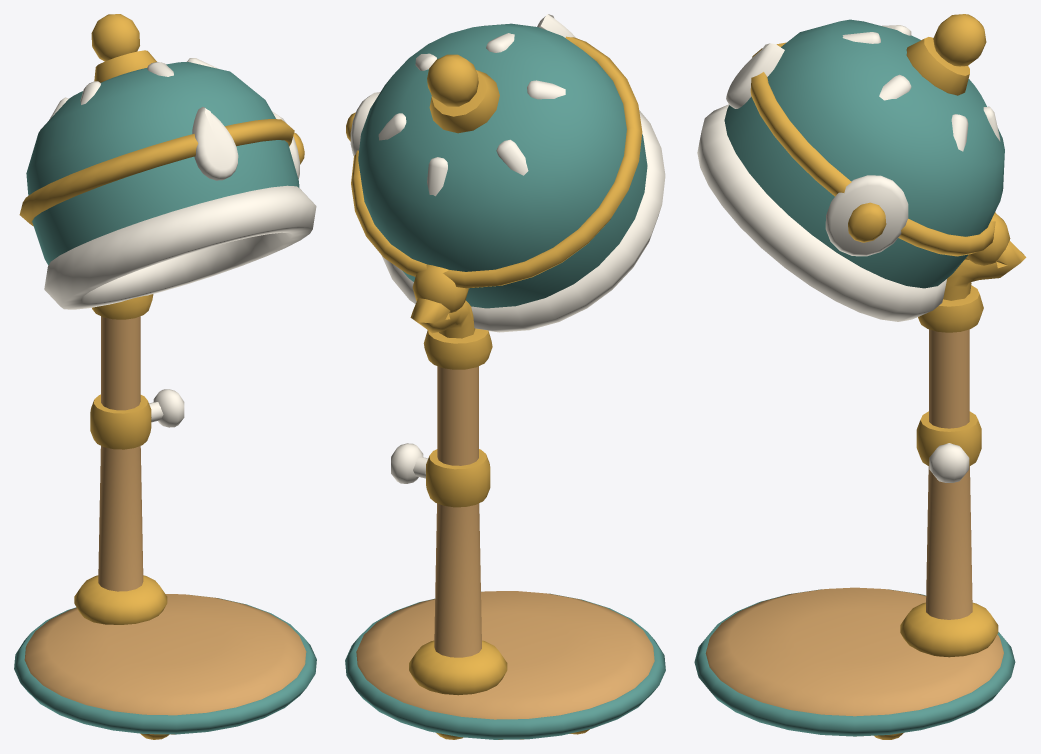
Rendered from ShopDryer.fbx.
3 renders of one model, left to right at view 1: azimuth 30°, elevation 25°; view 2: azimuth 150°, elevation 25°; view 3: azimuth 270°, elevation 25°, orthographic. The views are drawn at different scales.
Visible parts, largest first — view 1: ShopDryer; view 2: ShopDryer; view 3: ShopDryer.
Boxes of the visible parts, bbox=[...] form: ShopDryer: bbox=[14, 14, 316, 739]; ShopDryer: bbox=[345, 14, 665, 739]; ShopDryer: bbox=[694, 14, 1026, 739].
Size of the model in its own units: 0.63 by 1.43 by 0.6333.
